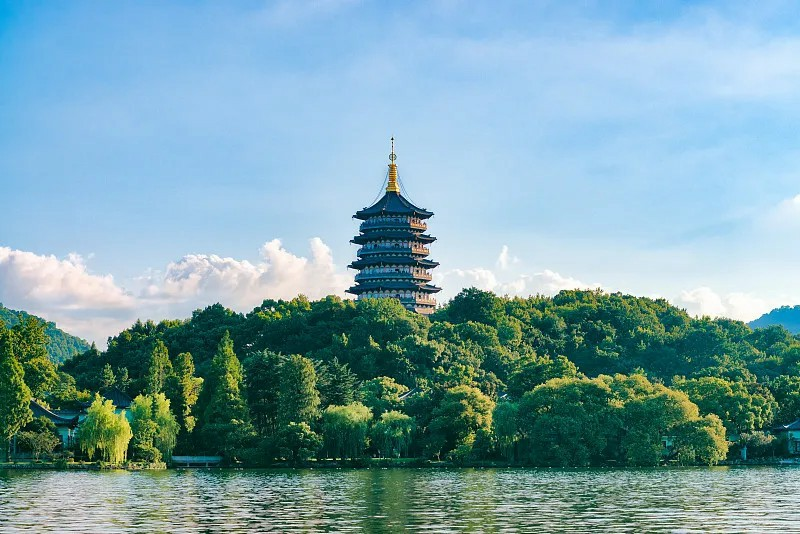Leifeng: (344, 134, 442, 318)
